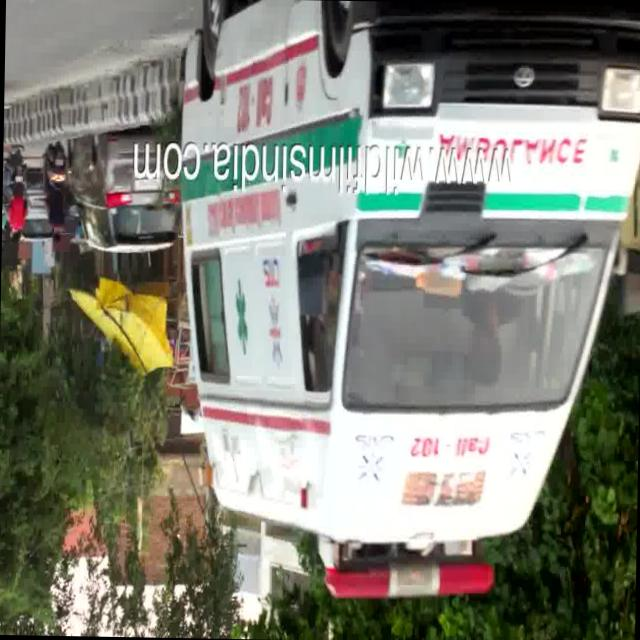ambulance: (137, 190, 640, 640)
